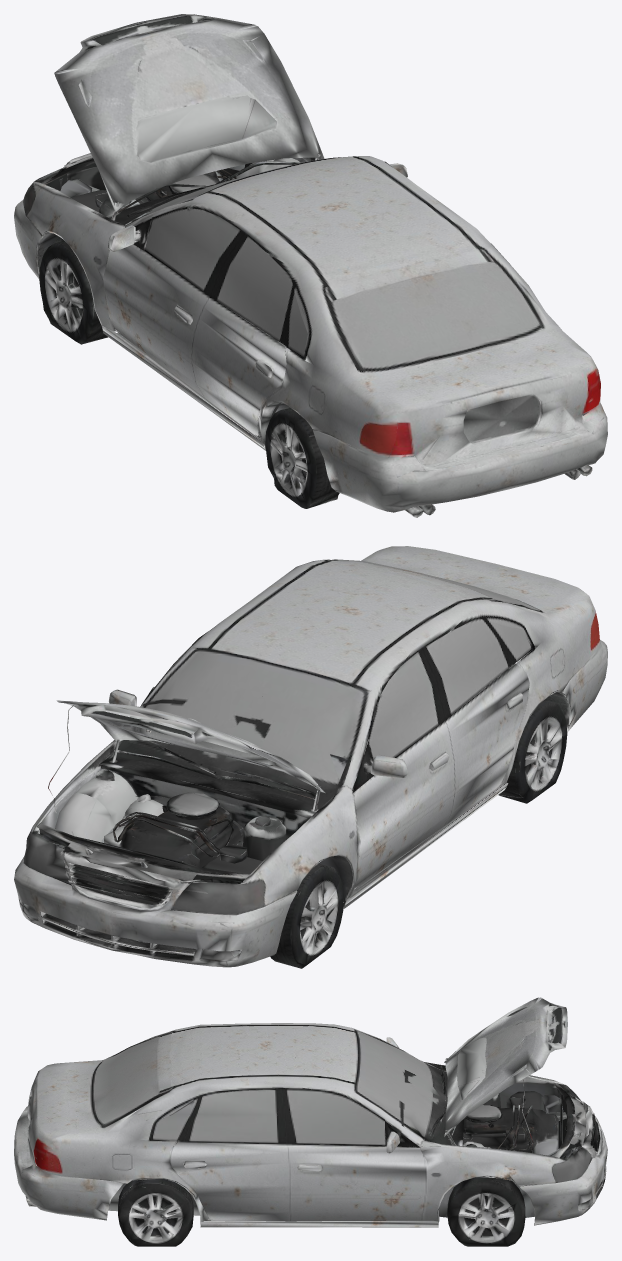
Rendered from hulk.glb.
3 views of the same model, one above another, from view 1: azimuth 30°, elevation 25°; view 2: azimuth 150°, elevation 25°; view 3: azimuth 270°, elevation 25° (orthographic). The views are drawn at different scales.
Parts seen in each view (by area): view 1: Prop_hulk; view 2: Prop_hulk; view 3: Prop_hulk.
Part boxes in pixels (box(x1,y1,x2,y2)): Prop_hulk: box(14, 14, 607, 517); Prop_hulk: box(14, 546, 607, 968); Prop_hulk: box(14, 997, 607, 1246).
Size of the model in its own units: 1.93 by 1.5 by 4.5.
1 material, 1 textured.
